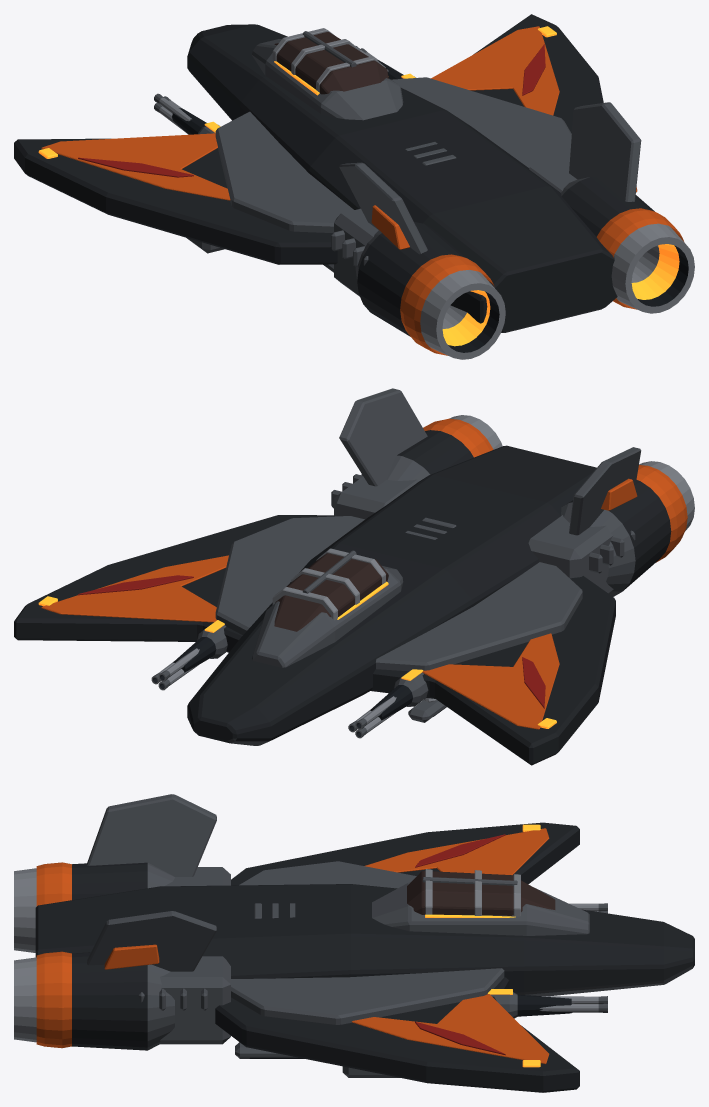
Rendered from cinder_fighter.glb.
3 views of the same model, one above another, from view 1: azimuth 30°, elevation 25°; view 2: azimuth 150°, elevation 25°; view 3: azimuth 270°, elevation 25° (orthographic). The views are drawn at different scales.
Visible parts, largest first — view 1: Fixed_Hull, Engine_L_Mesh, Engine_R_Mesh, Cannon_L_Mesh; view 2: Fixed_Hull, Engine_L_Mesh, Engine_R_Mesh, Cannon_L_Mesh, Cannon_R_Mesh, Skid_L_Mesh; view 3: Fixed_Hull, Engine_R_Mesh, Engine_L_Mesh, Cannon_R_Mesh, Skid_R_Mesh.
Part boxes in pixels (x1=…): Fixed_Hull: x1=14, y1=14, x2=641, y2=332; Engine_L_Mesh: x1=331, y1=208, x2=505, y2=359; Engine_R_Mesh: x1=529, y1=157, x2=694, y2=313; Cannon_L_Mesh: x1=154, y1=93, x2=220, y2=134; Fixed_Hull: x1=14, y1=388, x2=641, y2=765; Engine_L_Mesh: x1=528, y1=461, x2=694, y2=596; Engine_R_Mesh: x1=331, y1=415, x2=502, y2=519; Cannon_L_Mesh: x1=348, y1=669, x2=428, y2=738; Cannon_R_Mesh: x1=151, y1=620, x2=227, y2=690; Skid_L_Mesh: x1=408, y1=698, x2=446, y2=722; Fixed_Hull: x1=35, y1=794, x2=694, y2=1092; Engine_R_Mesh: x1=14, y1=951, x2=230, y2=1050; Engine_L_Mesh: x1=14, y1=862, x2=230, y2=952; Cannon_R_Mesh: x1=487, y1=989, x2=607, y2=1018; Skid_R_Mesh: x1=235, y1=1042, x2=304, y2=1058.
Bounding box in the file's own units: 14 × 4.4 × 16.
